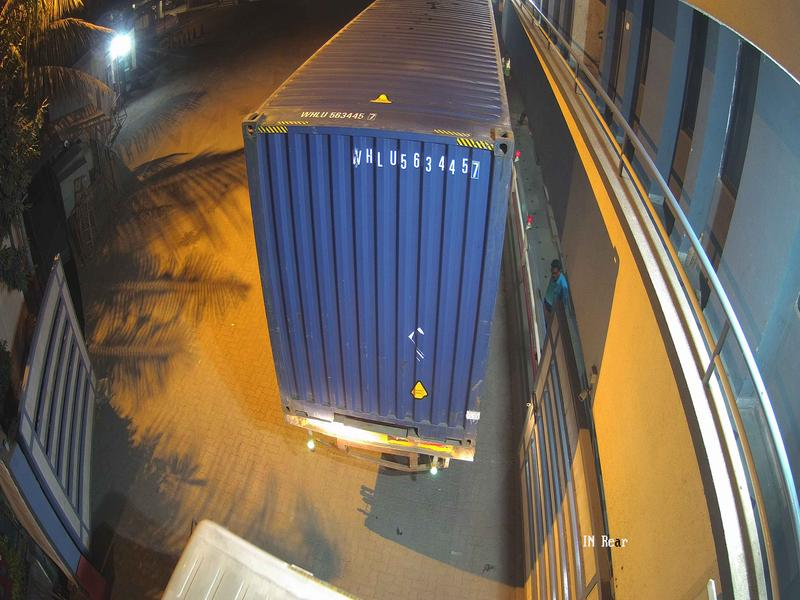container: (224, 99, 527, 471)
